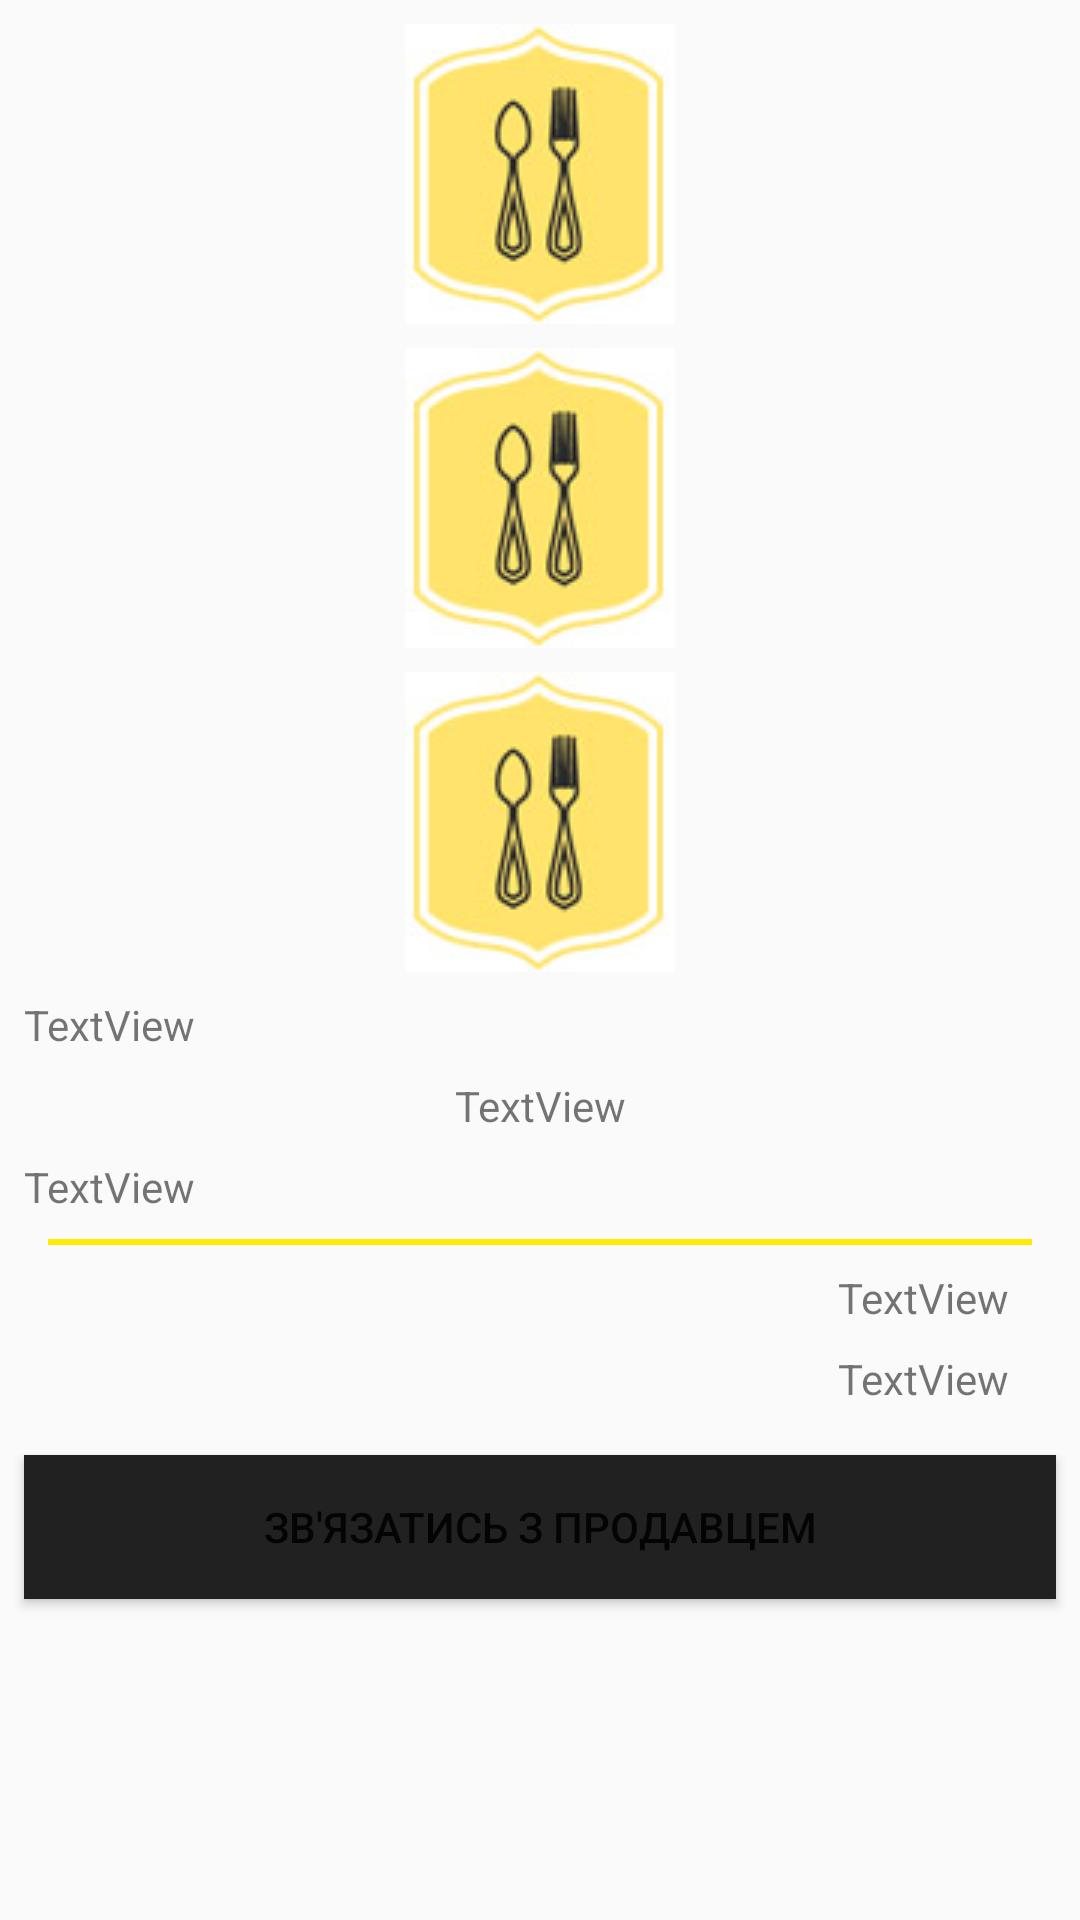

Icons on this 1080 × 1920 Android screen, each with its box as [left=x1, top=y1, right=x2, bottom=y2]:
stolove sriblo: [left=413, top=26, right=664, bottom=322], [left=413, top=350, right=664, bottom=646], [left=413, top=674, right=664, bottom=970]
